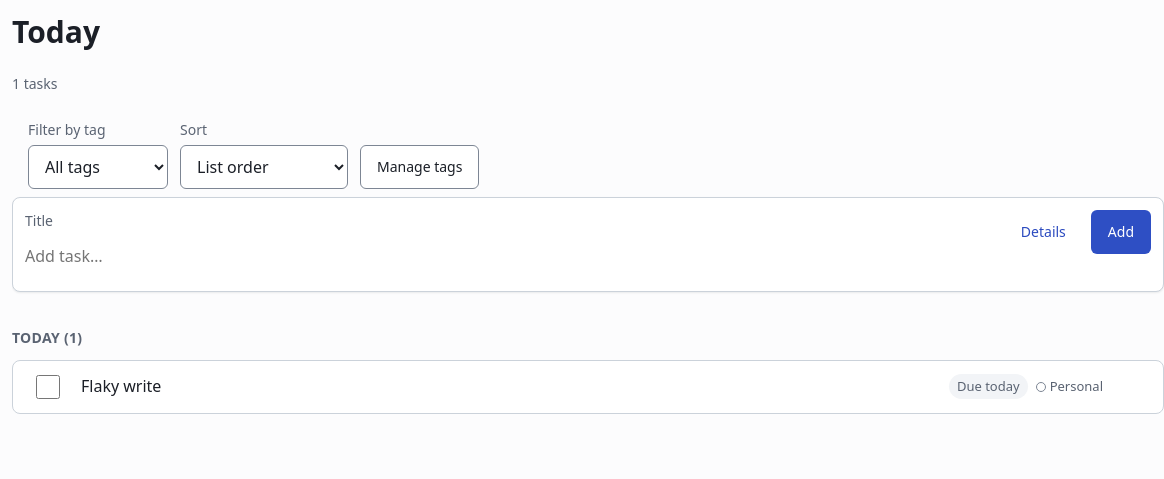
it: §5.6 write protocol — forced failure rolls back and reports › rolls the row back to its committed image, announces assertively and offers Retry
Click the checkbox named "Mark \"Flaky write\" as complete": click(48, 387) [36,375,60,399]
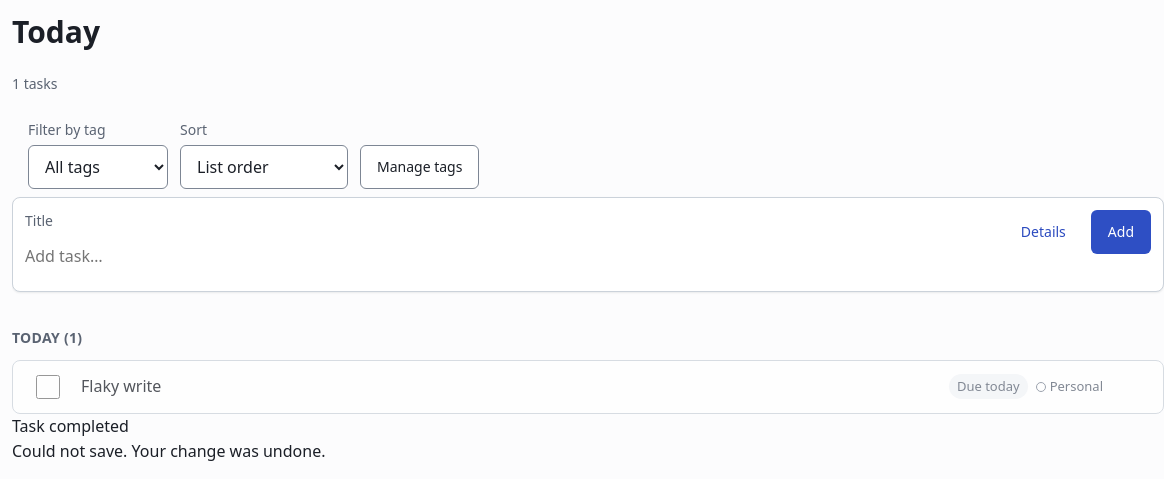
expect the text "Could not save. Your change was undone." is shown: met, box [12,440,326,462]
